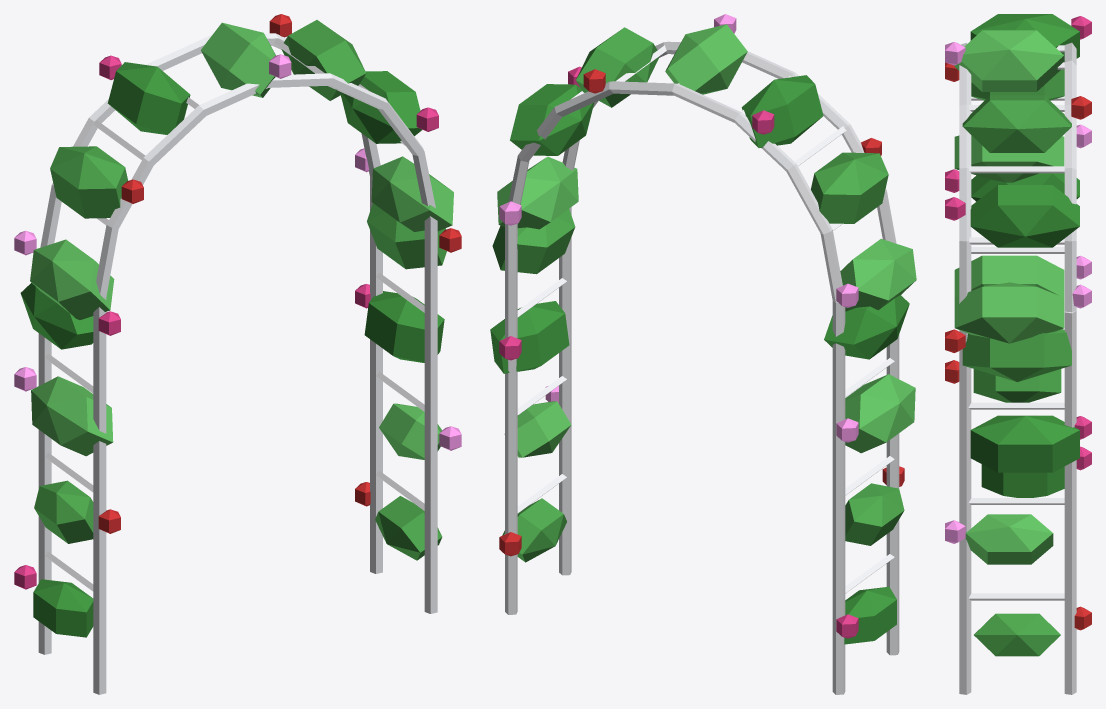
The model's file is rosenbogen.glb.
3 views of the same model, side by side, from view 1: azimuth 30°, elevation 25°; view 2: azimuth 150°, elevation 25°; view 3: azimuth 270°, elevation 25° (orthographic). The views are drawn at different scales.
Parts seen in each view (by area): view 1: rosenbogen-m; view 2: rosenbogen-m; view 3: rosenbogen-m.
Boxes of the visible parts, left/top/right/bottom form: rosenbogen-m: left=14, top=14, right=461, bottom=694; rosenbogen-m: left=490, top=14, right=916, bottom=694; rosenbogen-m: left=945, top=14, right=1091, bottom=694.
Bounding box in the file's own units: 1.68 × 2.44 × 0.5583.
